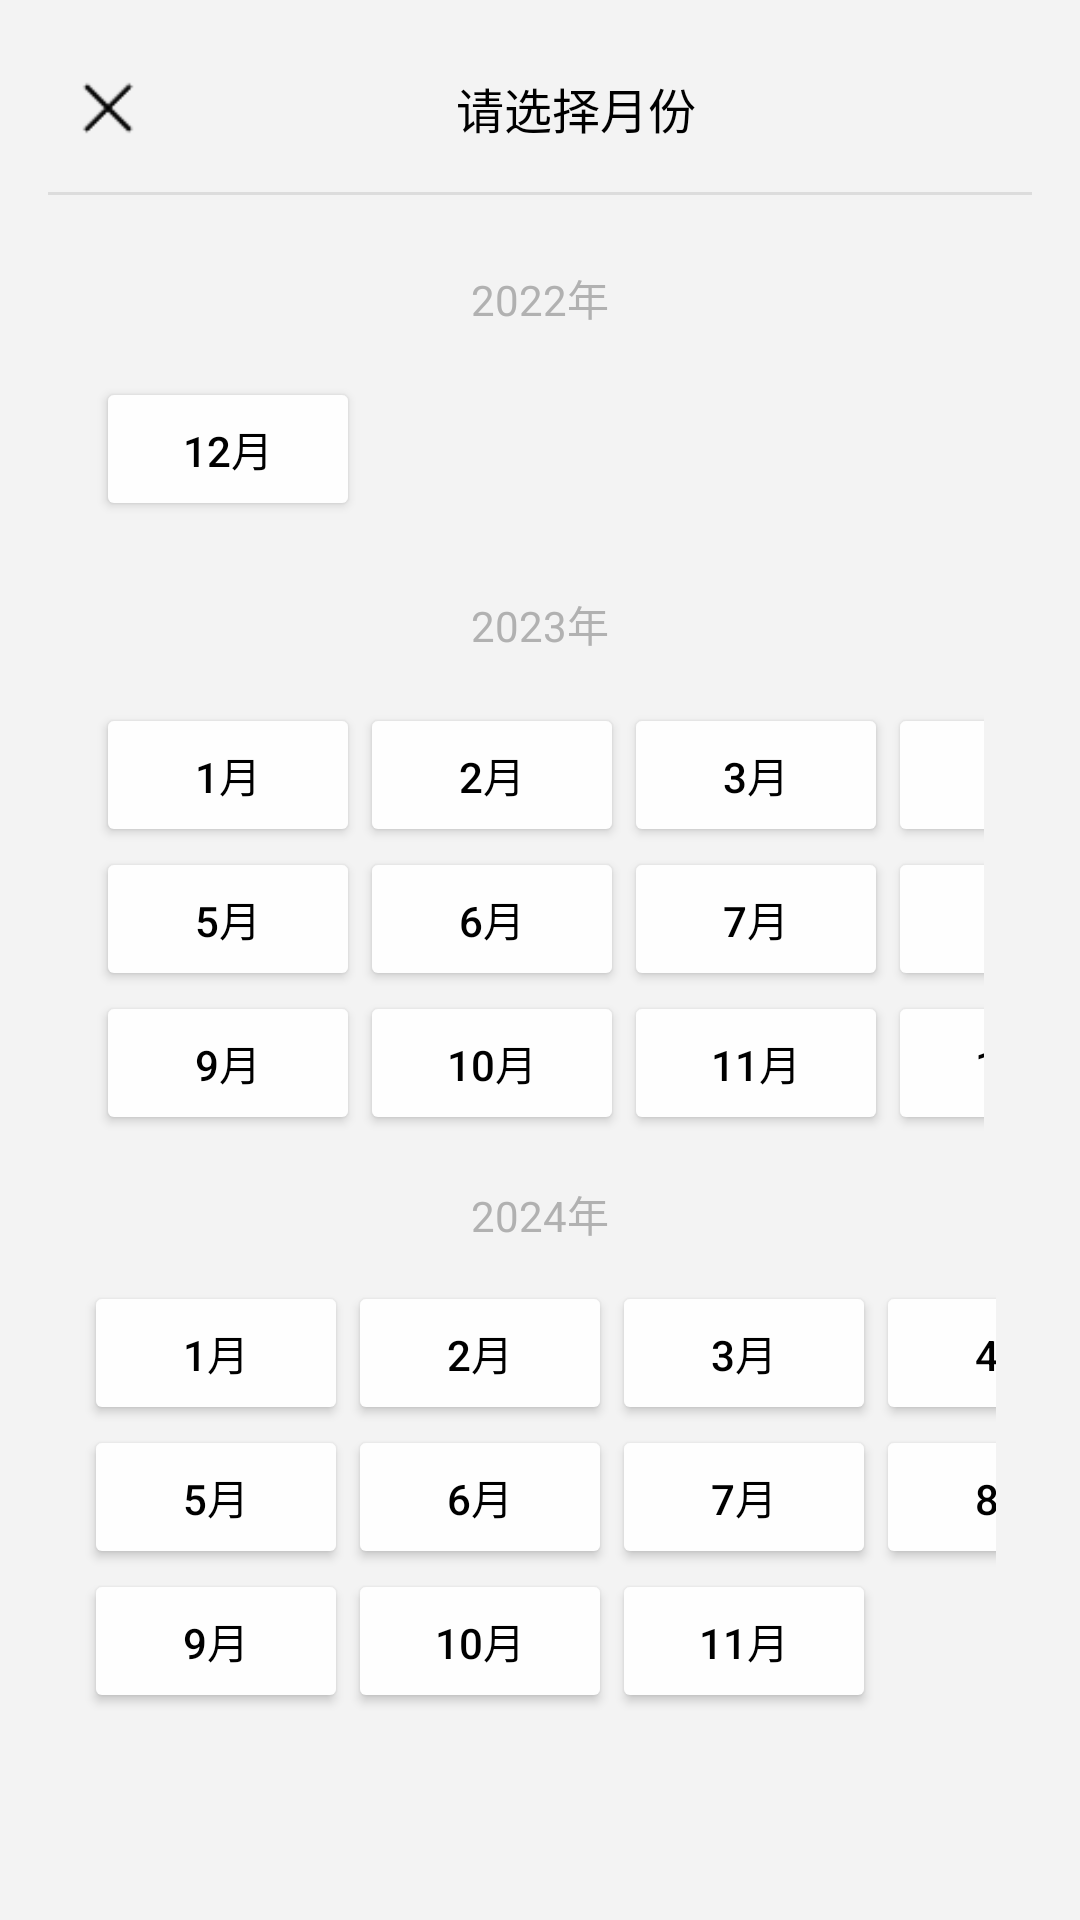

Locate icon controls on the screen. Image size 1080*1920, boxes as (x1=x1, y1=y1, x2=x2, y2=y2).
close: (x1=83, y1=83, x2=133, y2=133)
